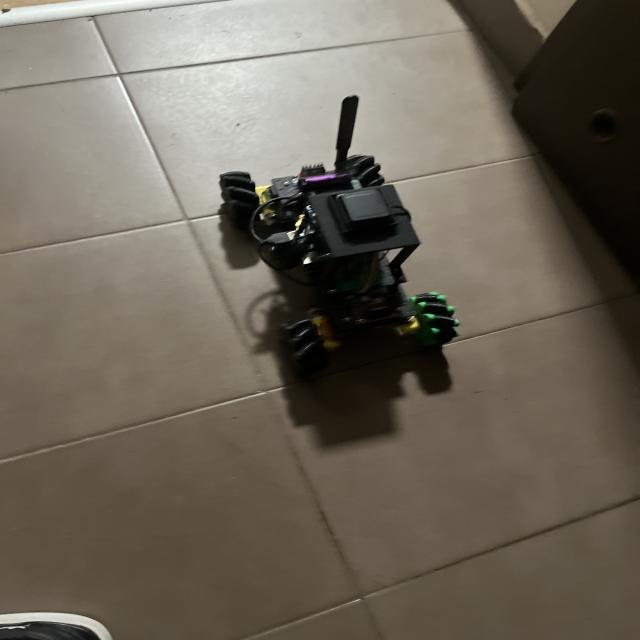robot: (219, 96, 459, 378)
